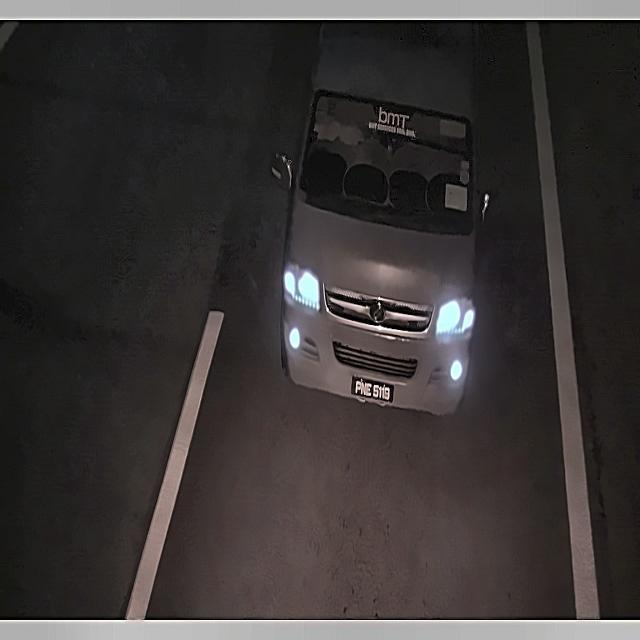car: (348, 370, 401, 407)
